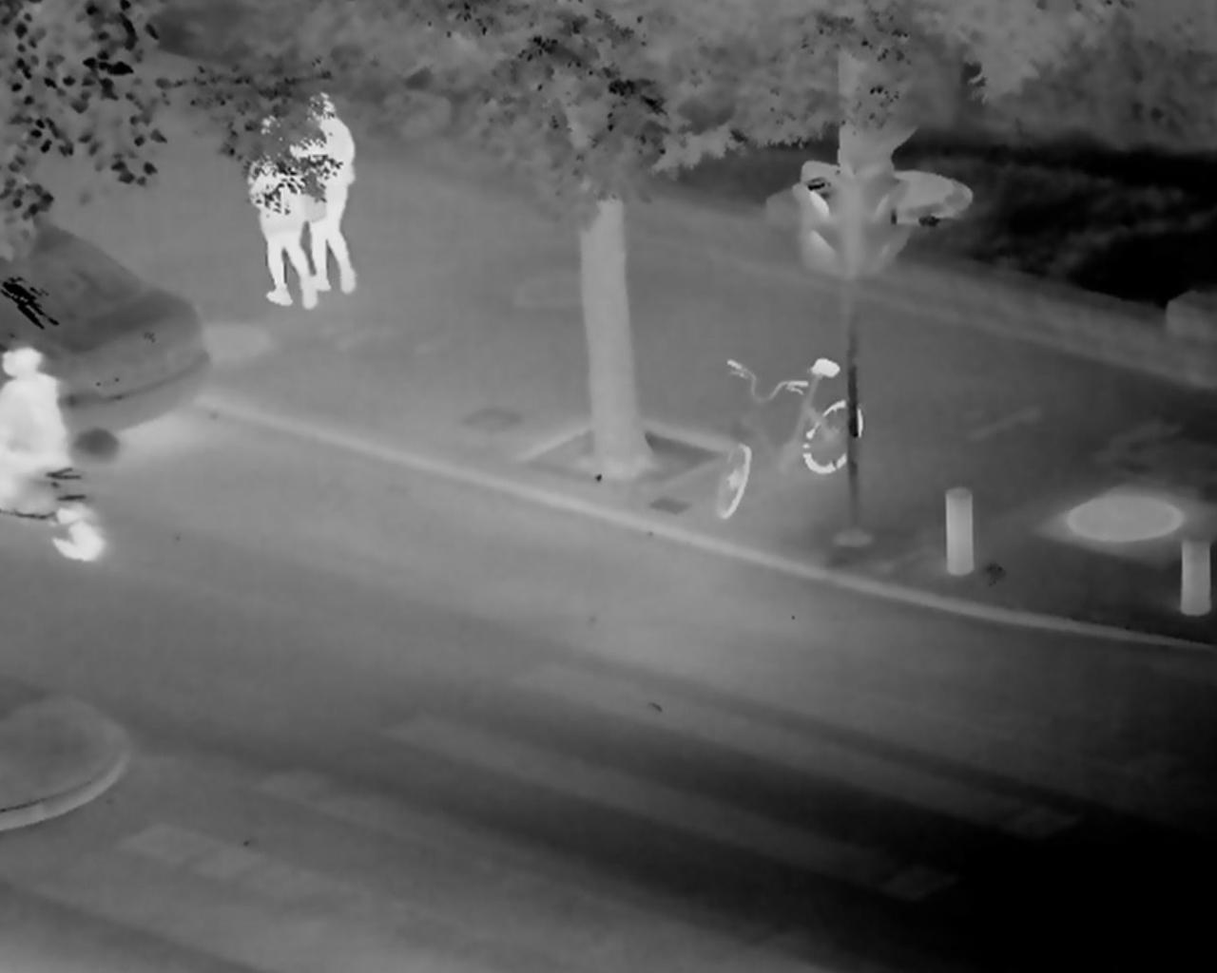person: (249, 116, 317, 314), (2, 343, 70, 530), (298, 89, 357, 297)
